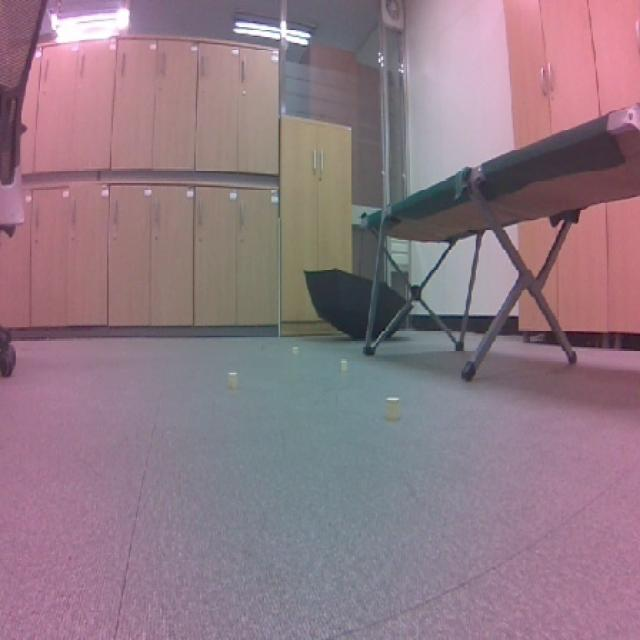obstacle: (378, 390, 407, 426)
